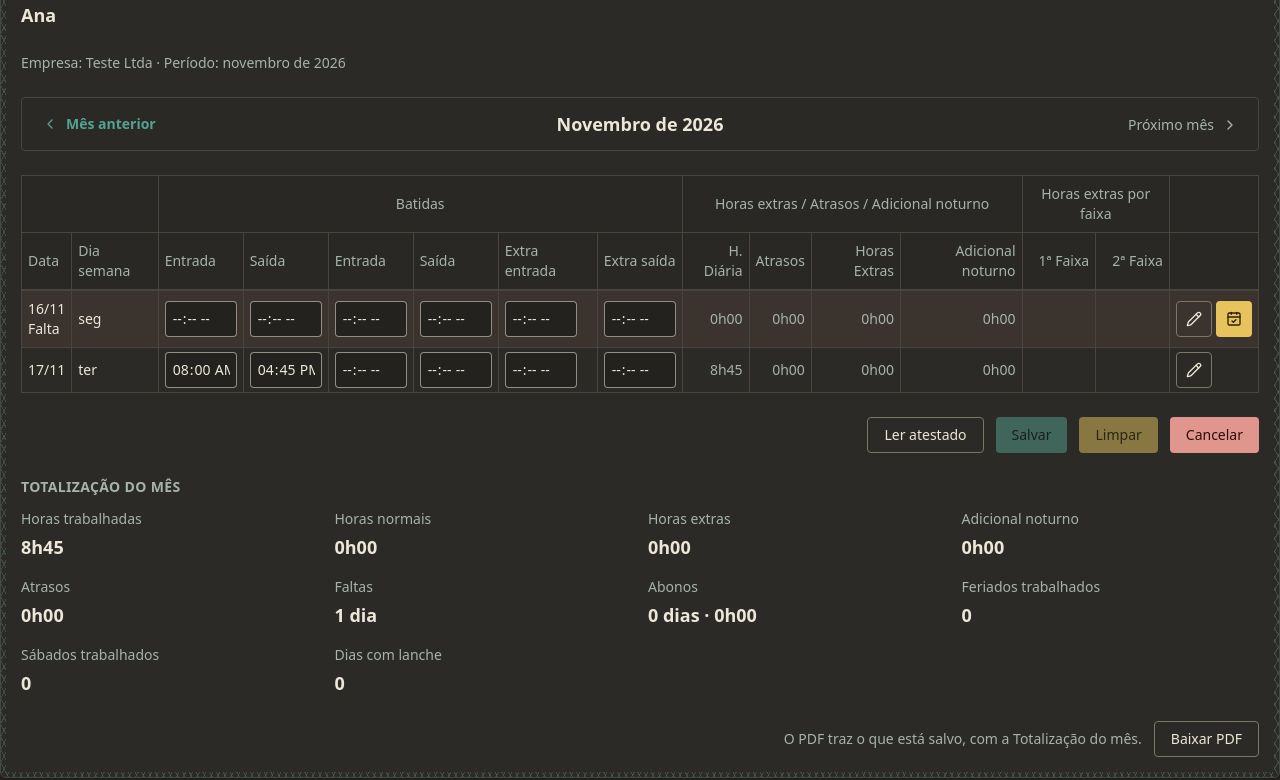
Test case: CartaoDePontoContainer › Baixar PDF entrega o arquivo e avisa que foi gerado
This screenshot has width=1280, height=780.
Click the button "Baixar PDF".
click(1206, 739)  # box [1154,721,1259,757]
(page scrolled)
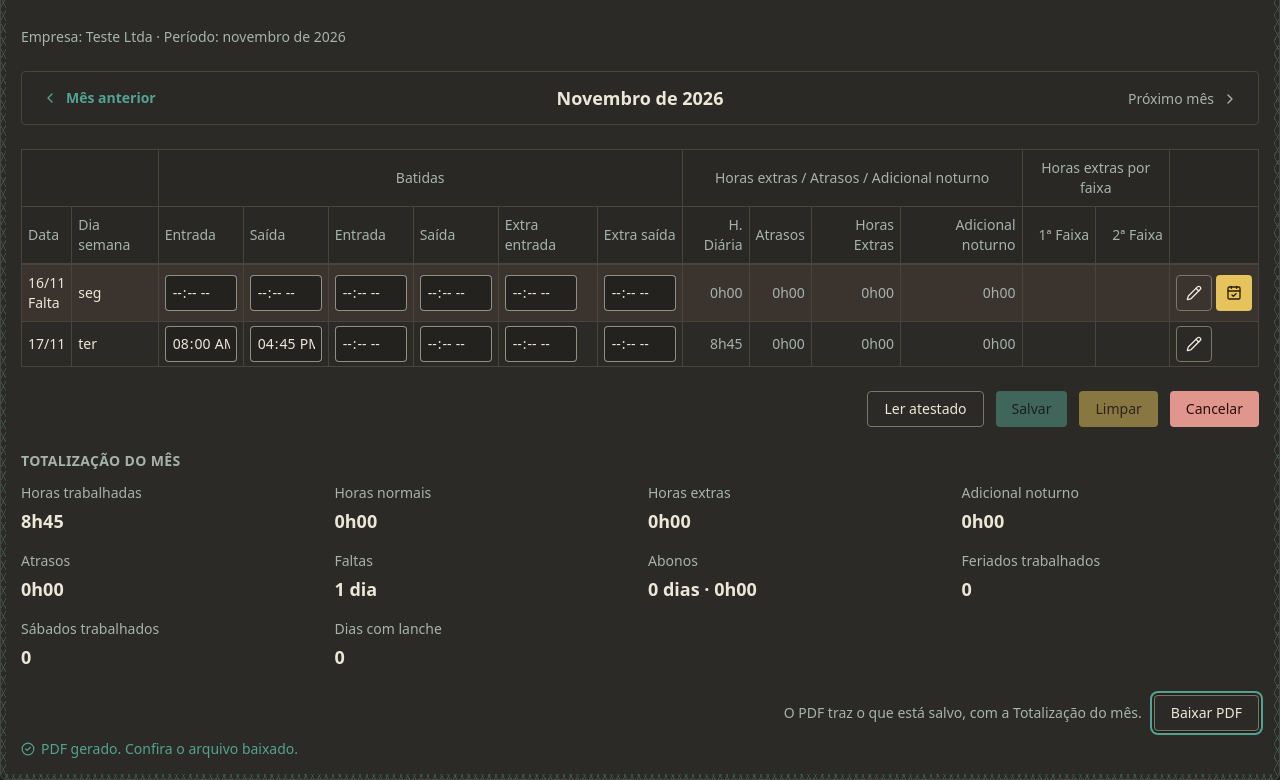
Now the text "PDF gerado. Confira o arquivo baixado." is shown, box [41,739,298,759]
